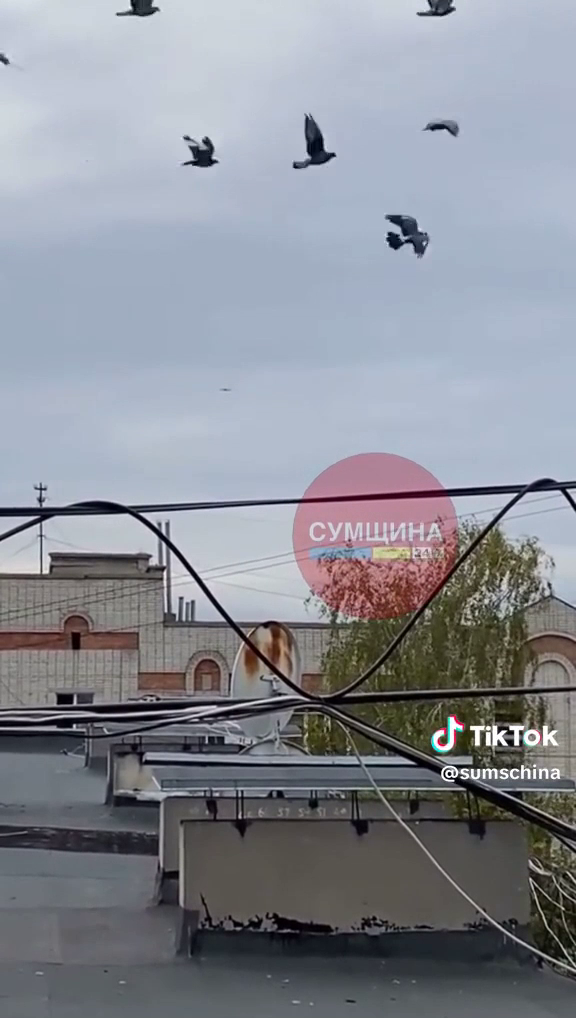not_drone: (418, 113, 463, 141), (113, 0, 163, 23)
